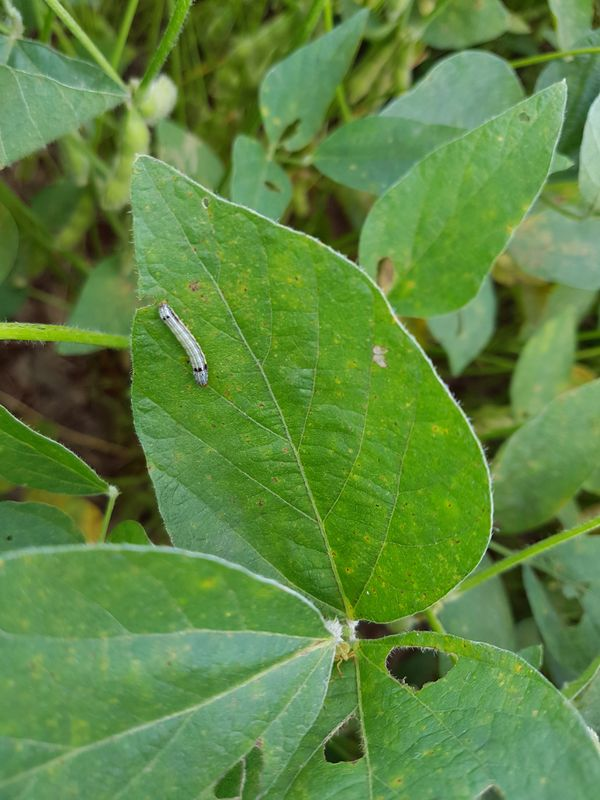Euschistus_heros_ninfa: (322, 633, 362, 672)
Spodoptera_albula: (146, 290, 223, 391)
